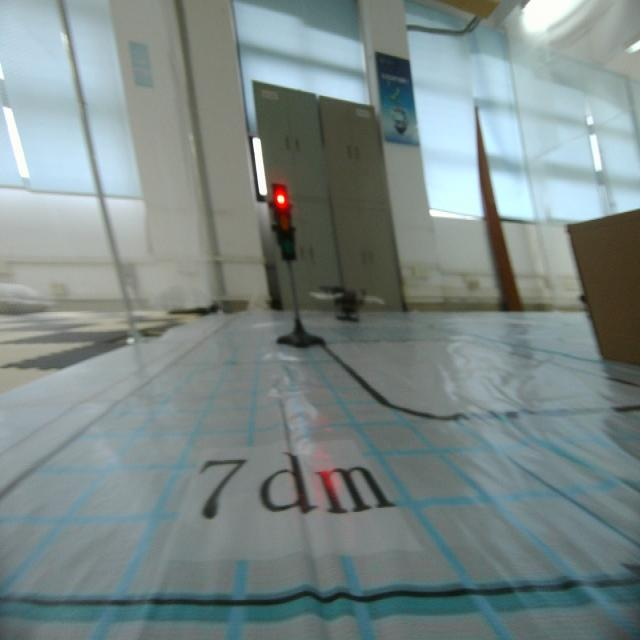red: (266, 179, 299, 265)
